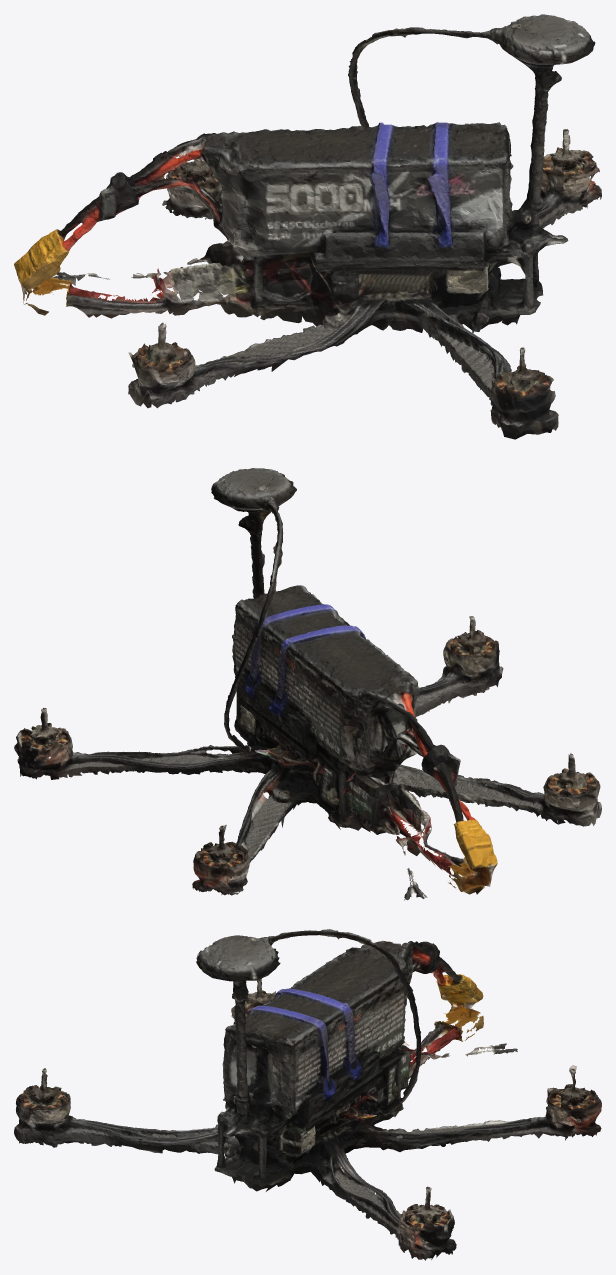
The model's file is drone.glb.
The picture shows the model from 3 angles, top to bottom: view 1: azimuth 30°, elevation 25°; view 2: azimuth 150°, elevation 25°; view 3: azimuth 270°, elevation 25°; orthographic projection. The views are drawn at different scales.
Visible parts, largest first — view 1: Mesh_0_Part_0; view 2: Mesh_0_Part_0; view 3: Mesh_0_Part_0.
Boxes of the visible parts, x1,y1,x2,y2 form: Mesh_0_Part_0: (14,14,601,439); Mesh_0_Part_0: (14,468,601,900); Mesh_0_Part_0: (14,929,601,1260).
Size of the model in its own units: 9.56 by 4.8 by 10.
1 material, 1 textured.
